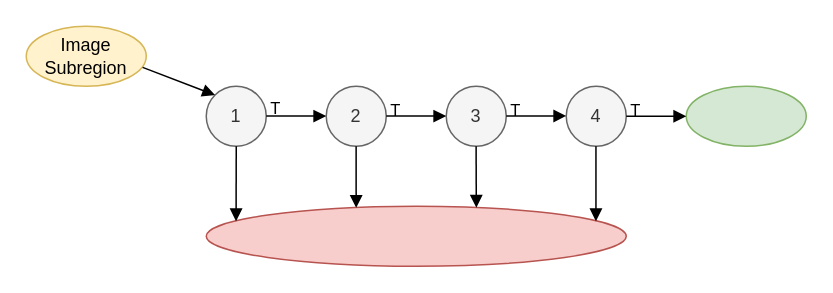
Some shapes in this 833 by 293 pixel diagram are drawn without their labels. The box of each missing label's shape, as (x1, y1, x2, y2) in pixels:
Face: (685, 85, 806, 146)
No Face: (205, 205, 626, 266)
